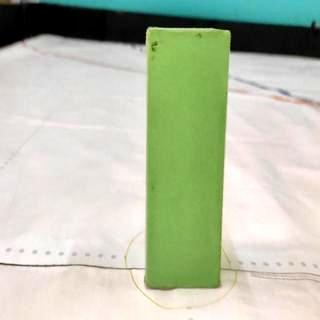greenbox: (144, 26, 224, 291)
